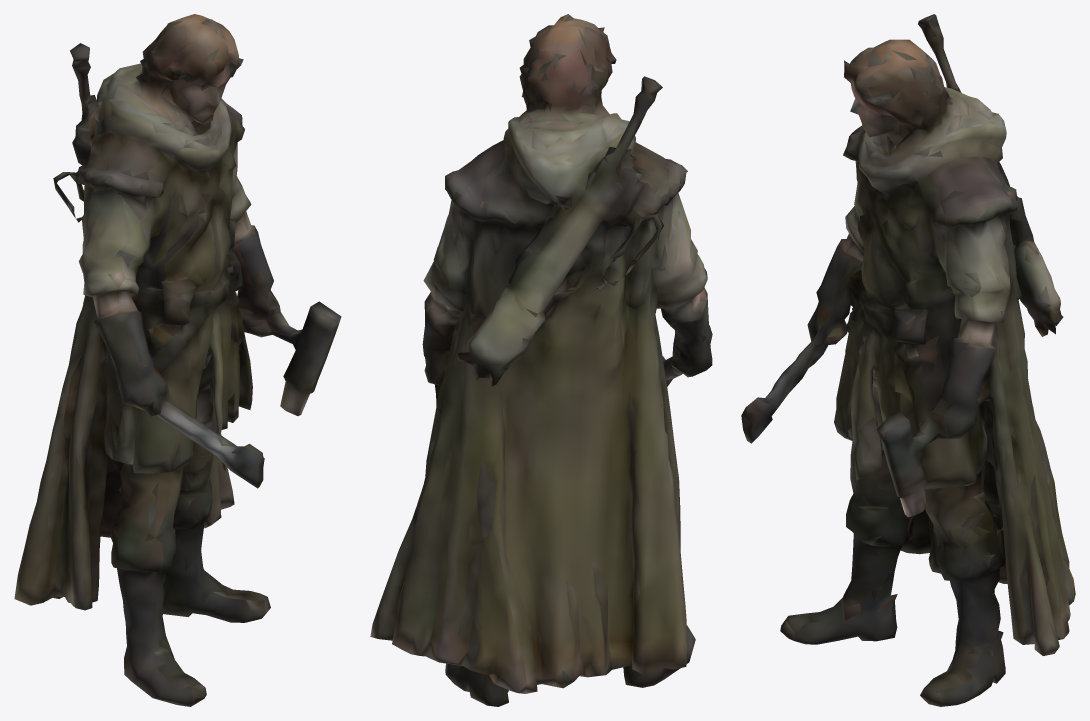
The model's file is Hans Ranger (small)_final.glb.
3 renders of one model, left to right at view 1: azimuth 30°, elevation 25°; view 2: azimuth 150°, elevation 25°; view 3: azimuth 270°, elevation 25°, orthographic. The views are drawn at different scales.
Visible parts, largest first — view 1: Mesh1.0; view 2: Mesh1.0; view 3: Mesh1.0.
Part boxes in pixels (box(x1,y1,x2,y2)): Mesh1.0: box(14, 14, 341, 706); Mesh1.0: box(370, 14, 712, 706); Mesh1.0: box(741, 14, 1075, 706).
Bounding box in the file's own units: 0.9083 × 1.91 × 0.9307.
Materials: 1 (1 with a texture image).
